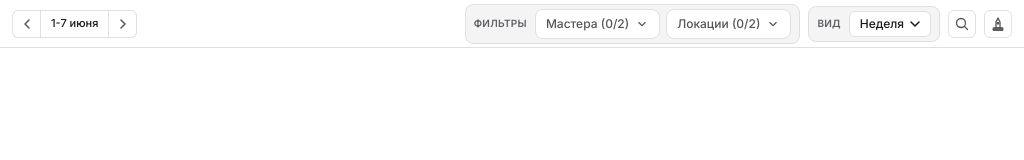
Topbar › dropdown closes after selecting an option
Click the button with test id "view-selector": point(890, 24) [849,10,931,36]
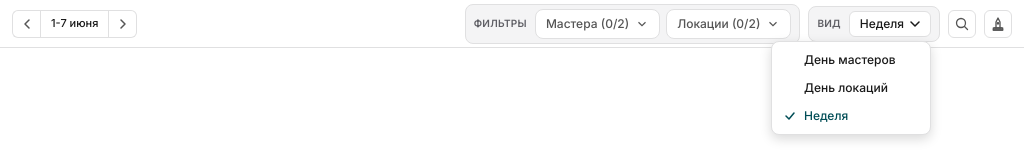
Click the menu item with test id "view-week": point(851, 116) [772,102,930,130]
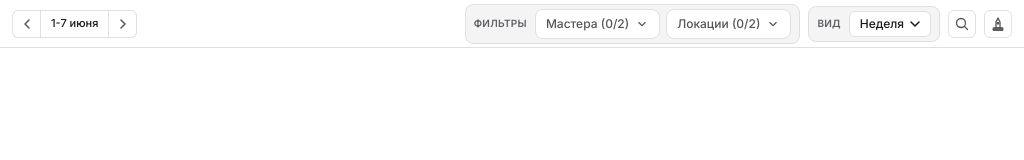
Now the menu with test id "view-mode-menu" is gone
